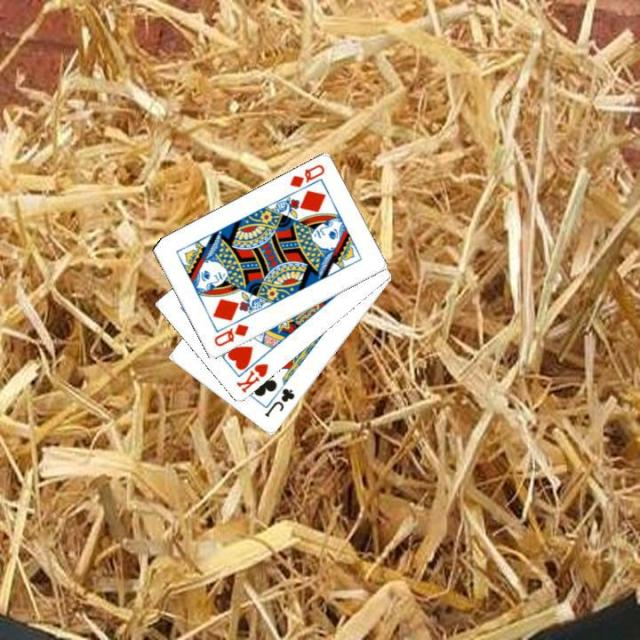JC: (260, 384, 297, 420)
KH: (232, 360, 270, 396)
QD: (286, 161, 326, 190), (210, 320, 250, 348)
